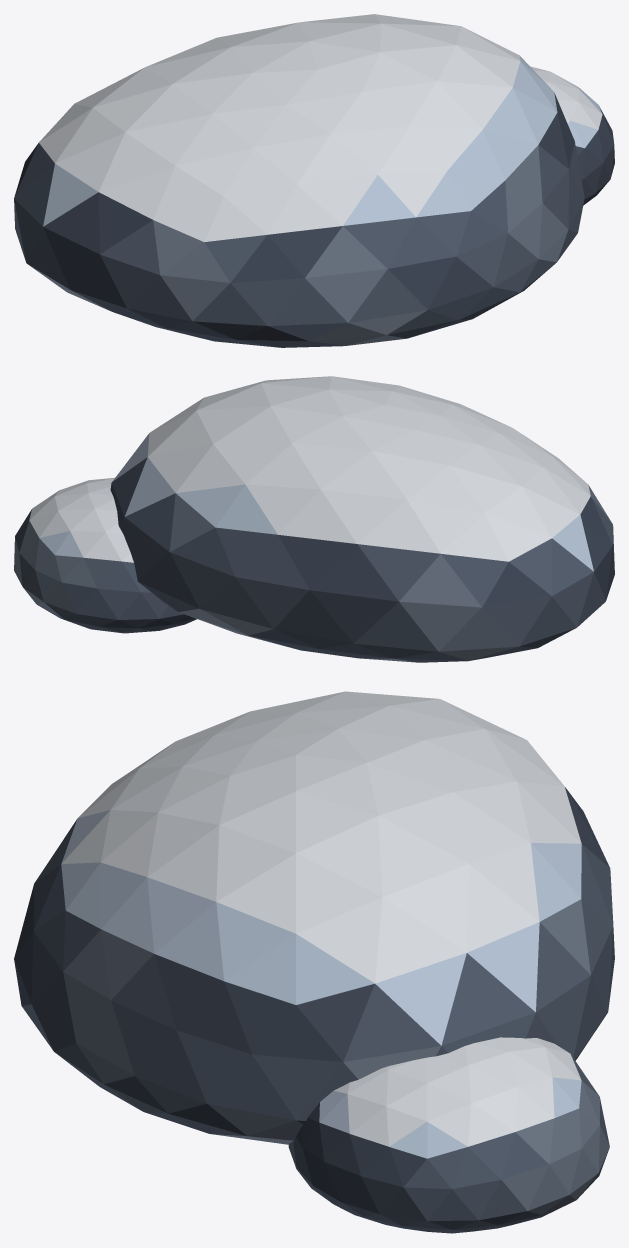
Rendered from Rock_Cluster.glb.
3 renders of one model, top to bottom at view 1: azimuth 30°, elevation 25°; view 2: azimuth 150°, elevation 25°; view 3: azimuth 270°, elevation 25°, orthographic. The views are drawn at different scales.
Parts seen in each view (by area): view 1: Rock_Cluster; view 2: Rock_Cluster; view 3: Rock_Cluster.
Boxes of the visible parts, <box> form: Rock_Cluster: <box>14,14,614,347</box>; Rock_Cluster: <box>14,376,614,662</box>; Rock_Cluster: <box>14,691,614,1233</box>.
Bounding box in the file's own units: 8.05 × 3.18 × 5.5.
